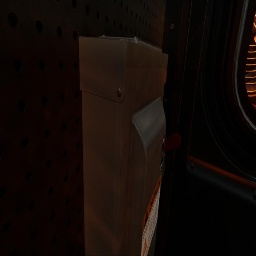SafetySwitchPanel ,: (79, 34, 181, 256)
